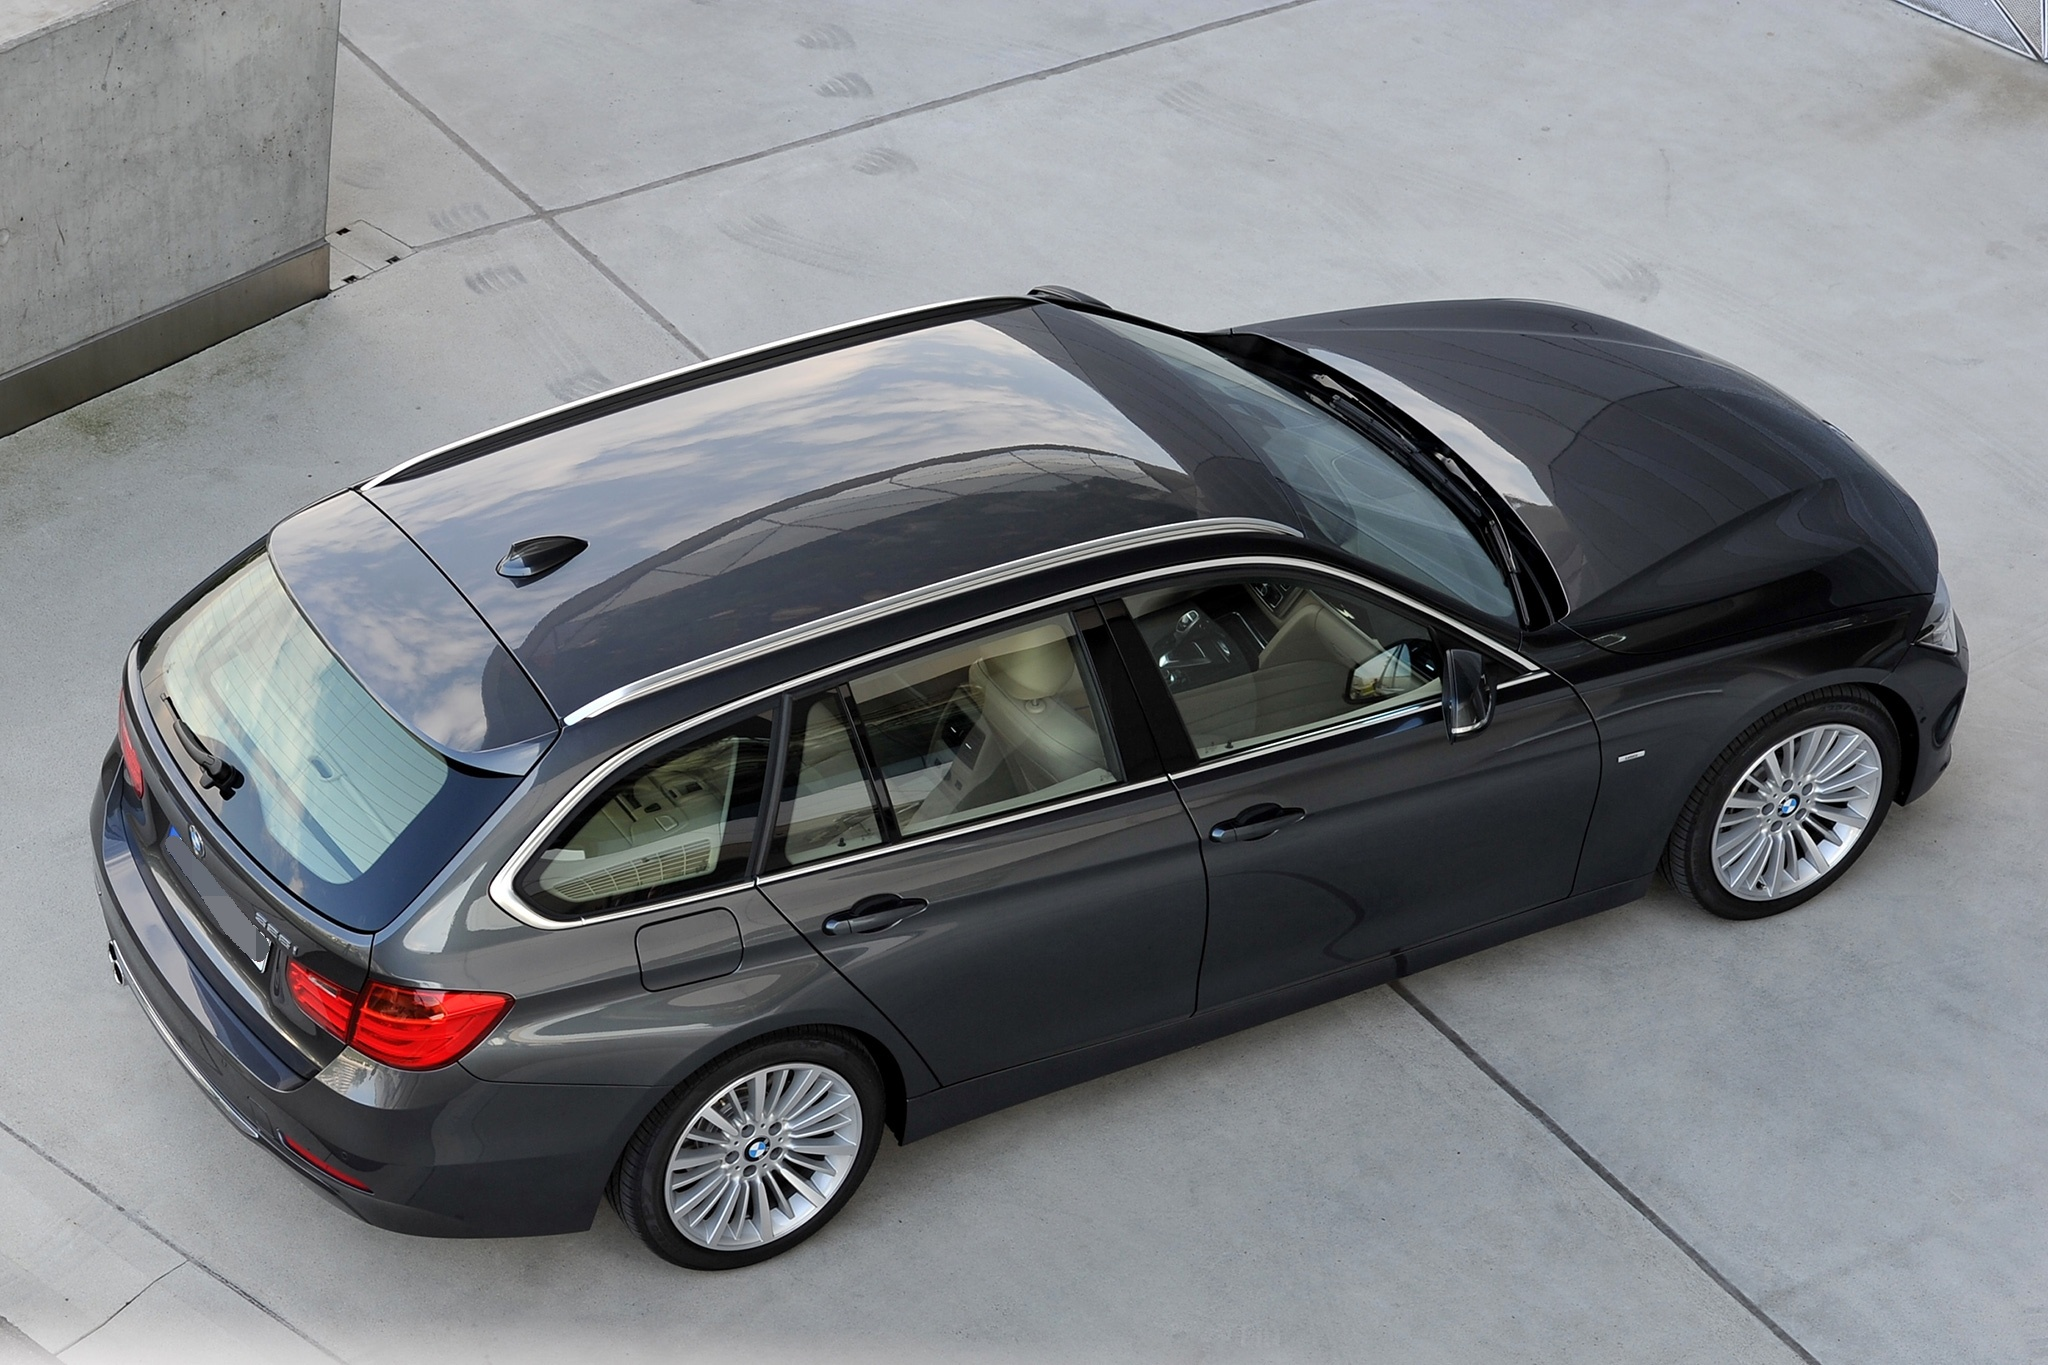family sedan: (67, 264, 1960, 1246)
